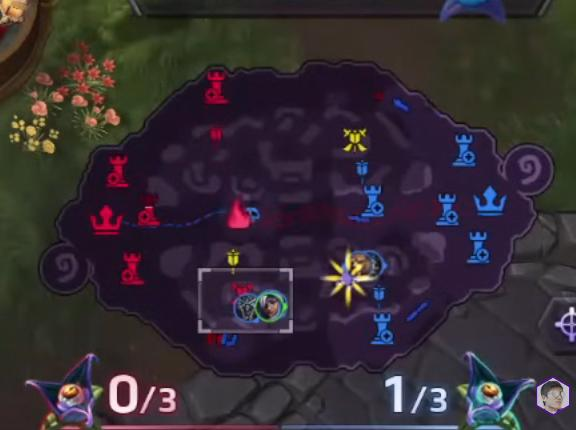blue nexus: (472, 184, 508, 217)
blue player: (348, 249, 385, 280)
blue tower: (353, 180, 385, 221), (451, 132, 477, 168), (434, 191, 459, 227), (466, 230, 491, 265), (370, 311, 395, 345), (355, 159, 369, 178), (373, 311, 392, 324), (454, 132, 474, 144), (437, 192, 457, 203), (109, 154, 127, 164)
red nexus: (89, 203, 124, 233), (123, 251, 141, 262)
red tower: (204, 69, 230, 105), (120, 251, 145, 285), (138, 192, 162, 227), (106, 154, 131, 187)
